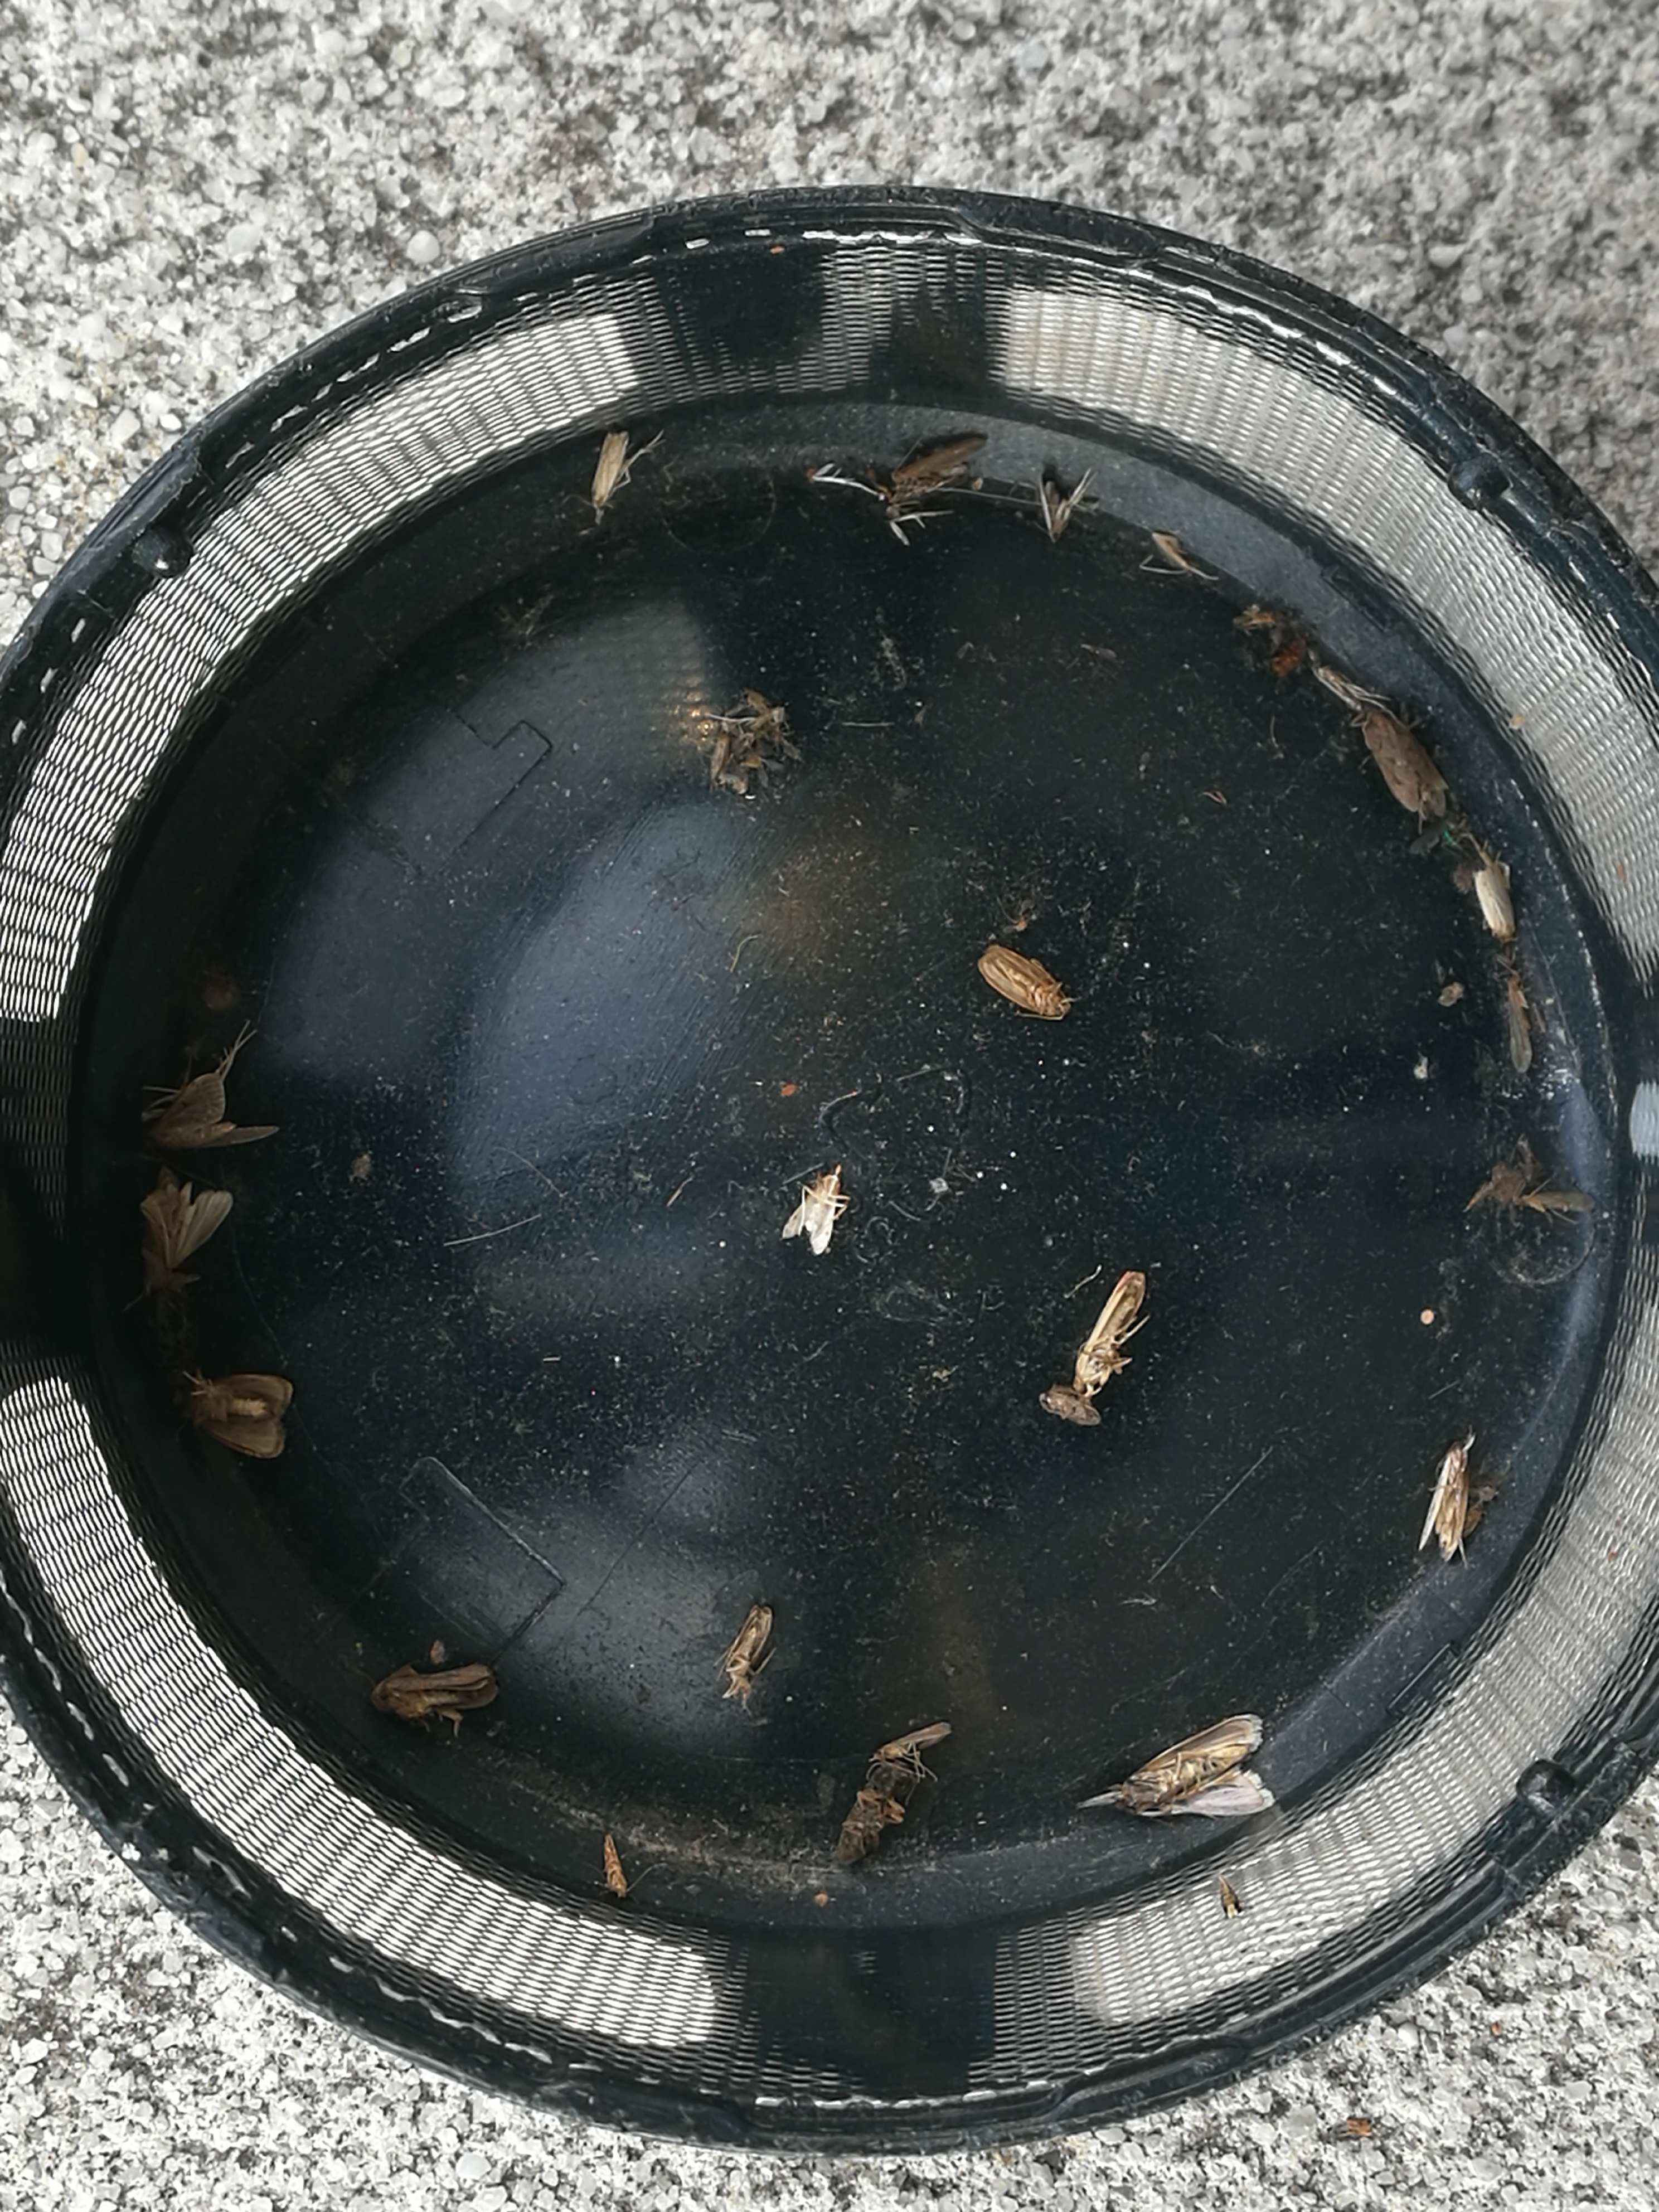mosquito: (1075, 1268, 1147, 1393), (1419, 1440, 1469, 1569), (894, 435, 983, 482), (589, 430, 629, 512), (727, 1606, 772, 1677), (871, 1721, 951, 1761), (1040, 1385, 1098, 1423), (1525, 1191, 1596, 1212), (605, 1836, 627, 1897)
moth: (1119, 1716, 1274, 1815), (139, 1163, 232, 1287), (174, 1372, 293, 1460), (146, 1076, 279, 1146), (1361, 712, 1446, 813), (978, 946, 1073, 1022), (373, 1663, 500, 1719), (784, 1170, 840, 1256)
